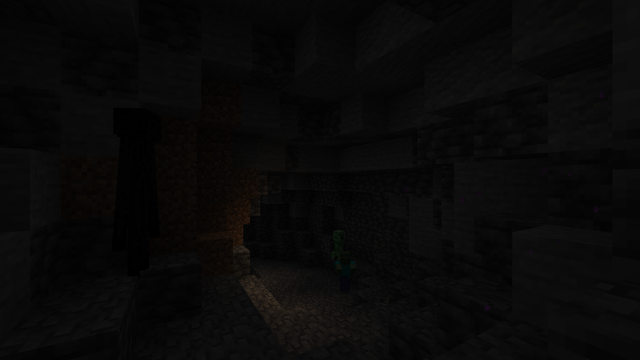creepers: (331, 228, 345, 259)
endermens: (113, 99, 158, 280)
zombies: (336, 251, 352, 296)
